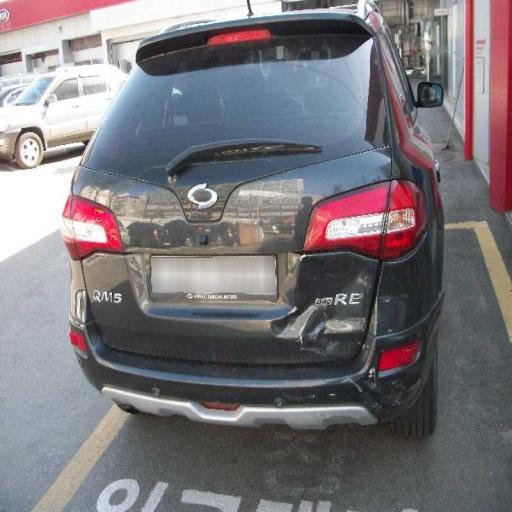dent: (262, 235, 404, 381), (80, 270, 129, 390)
scratch: (138, 74, 392, 186)
